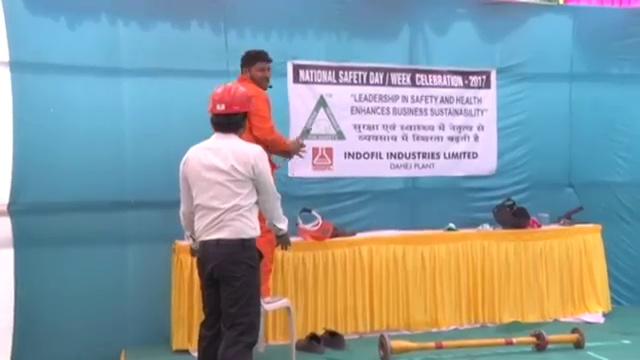helmet: (206, 83, 252, 116)
helmet_off: (236, 48, 272, 93)
helmet_on: (205, 83, 252, 139)
person: (179, 82, 288, 360), (212, 45, 303, 302)
